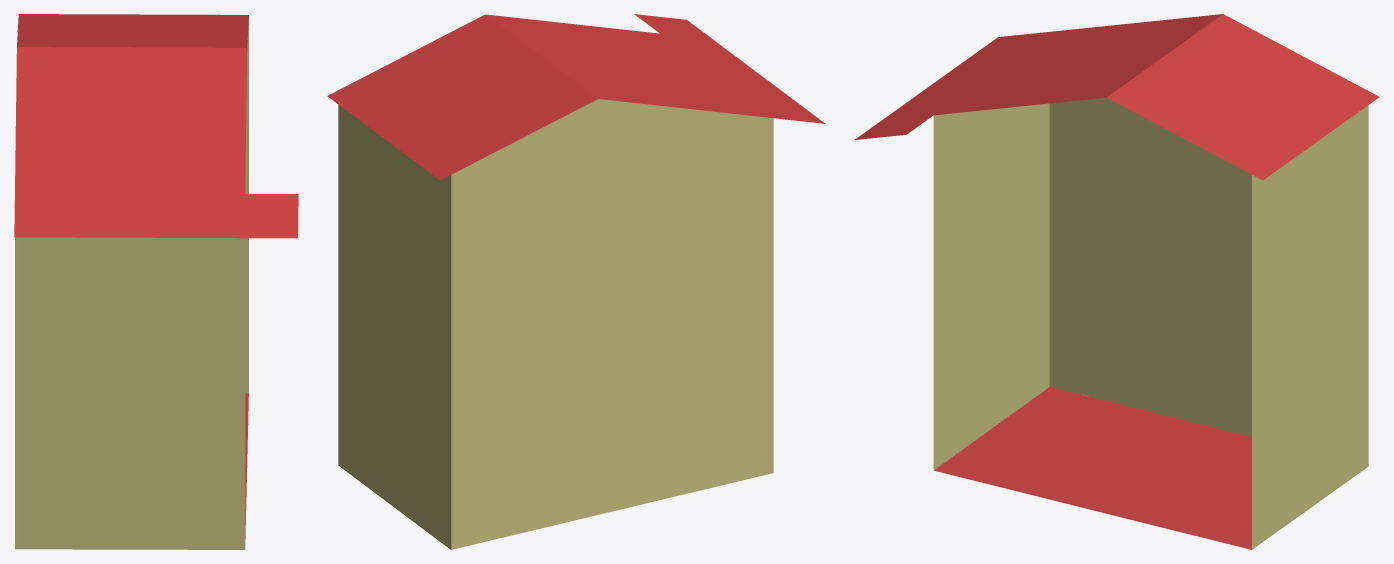
3 views of the same model, side by side, from view 1: azimuth 30°, elevation 25°; view 2: azimuth 150°, elevation 25°; view 3: azimuth 270°, elevation 25° (orthographic).
Visible parts, largest first — view 1: group_5, group_3, group_6; view 2: group_5, group_3; view 3: group_5, group_3, group_6.
Part boxes in pixels (left/top/right/bottom): group_5: left=15, top=19, right=248, bottom=549; group_3: left=14, top=14, right=298, bottom=238; group_6: left=245, top=393, right=248, bottom=538; group_5: left=338, top=99, right=773, bottom=549; group_3: left=327, top=14, right=825, bottom=180; group_5: left=933, top=97, right=1368, bottom=549; group_3: left=855, top=14, right=1379, bottom=180; group_6: left=934, top=387, right=1251, bottom=549.
Bounding box in the file's own units: 8.43 × 10.47 × 9.15.
